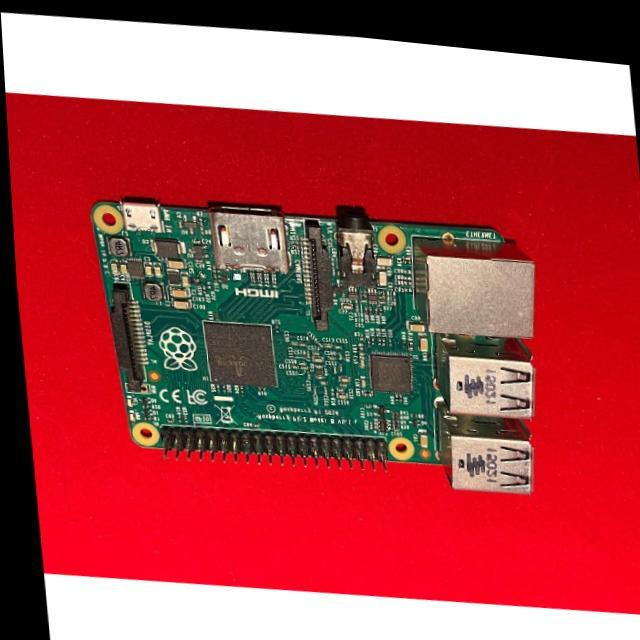Raspberry-Pi-2-B: (93, 198, 534, 492)
